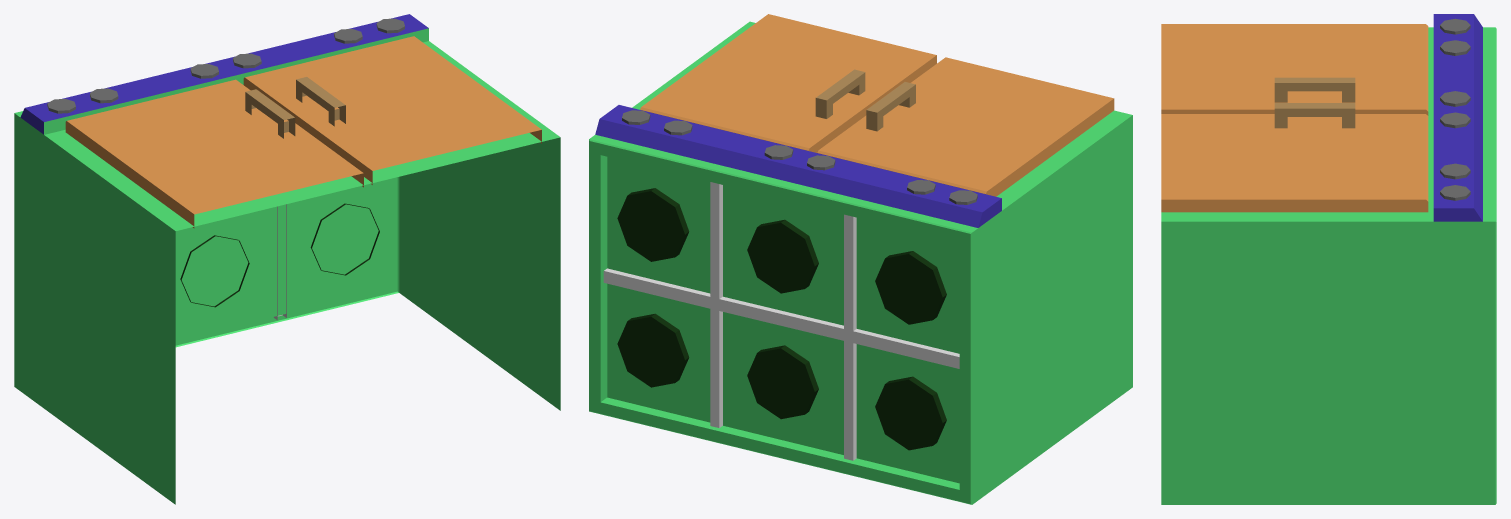
File: propsMaison_gaziniere.fbx
3 renders of one model, left to right at view 1: azimuth 30°, elevation 25°; view 2: azimuth 150°, elevation 25°; view 3: azimuth 270°, elevation 25°, orthographic. The views are drawn at different scales.
Visible parts, largest first — view 1: gaziniere; view 2: gaziniere; view 3: gaziniere.
Part boxes in pixels (x1,y1,x2,y2): gaziniere: [14, 14, 560, 504]; gaziniere: [589, 14, 1132, 504]; gaziniere: [1161, 14, 1496, 504].
Bounding box in the file's own units: 572 × 433 × 417.
